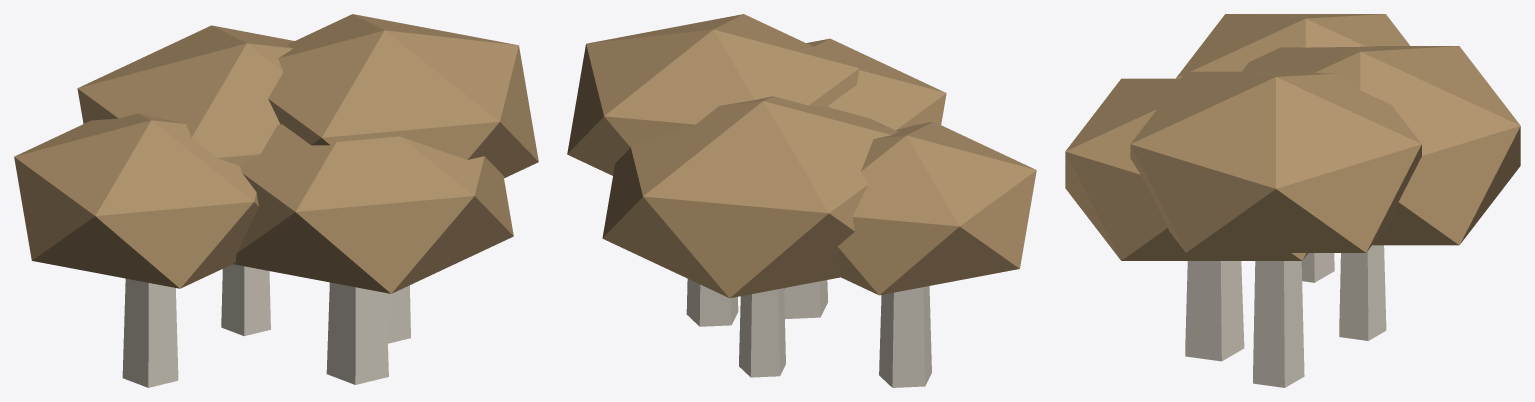
Rendered from mushroom_cluster_brown.glb.
3 views of the same model, side by side, from view 1: azimuth 30°, elevation 25°; view 2: azimuth 150°, elevation 25°; view 3: azimuth 270°, elevation 25° (orthographic). The views are drawn at different scales.
Visible parts, largest first — view 1: mushroom_cluster_brown; view 2: mushroom_cluster_brown; view 3: mushroom_cluster_brown.
Part boxes in pixels (x1=…): mushroom_cluster_brown: x1=14, y1=14, x2=538, y2=387; mushroom_cluster_brown: x1=567, y1=14, x2=1036, y2=387; mushroom_cluster_brown: x1=1065, y1=14, x2=1520, y2=387.
Bounding box in the file's own units: 0.3407 × 0.2088 × 0.2878.
